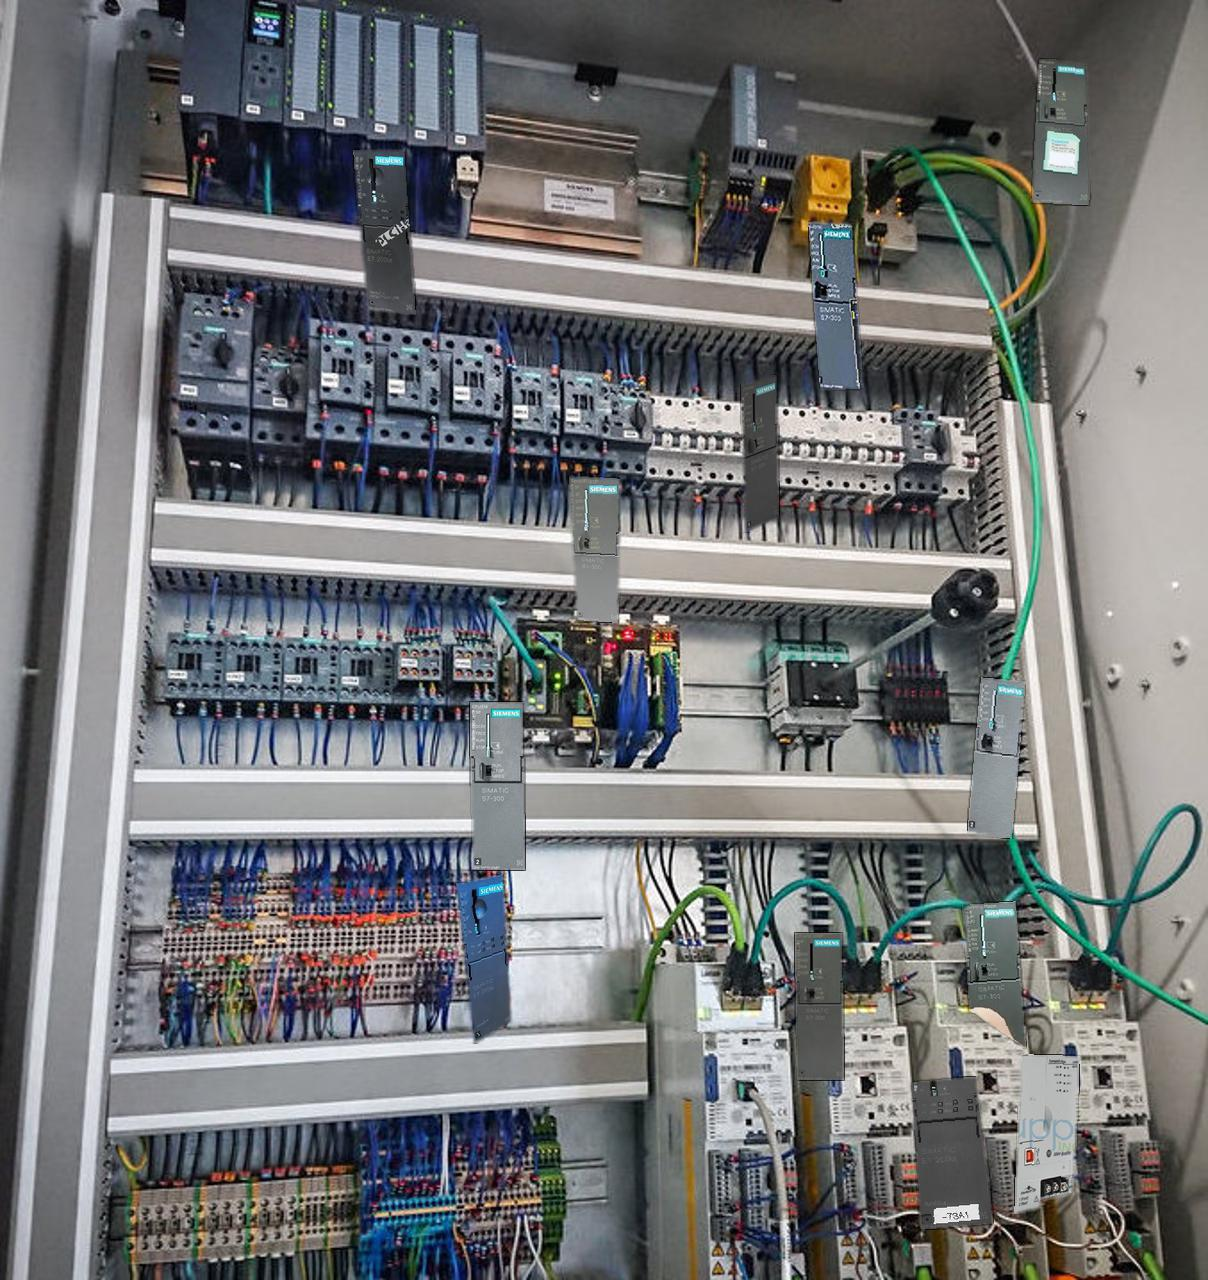AllenBradley: (1014, 1054, 1079, 1213)
Siemens: (967, 677, 1024, 838), (963, 901, 1025, 1047), (470, 702, 525, 869), (808, 221, 861, 388), (1032, 59, 1089, 204), (569, 477, 619, 622), (795, 932, 844, 1079), (741, 375, 778, 532)
